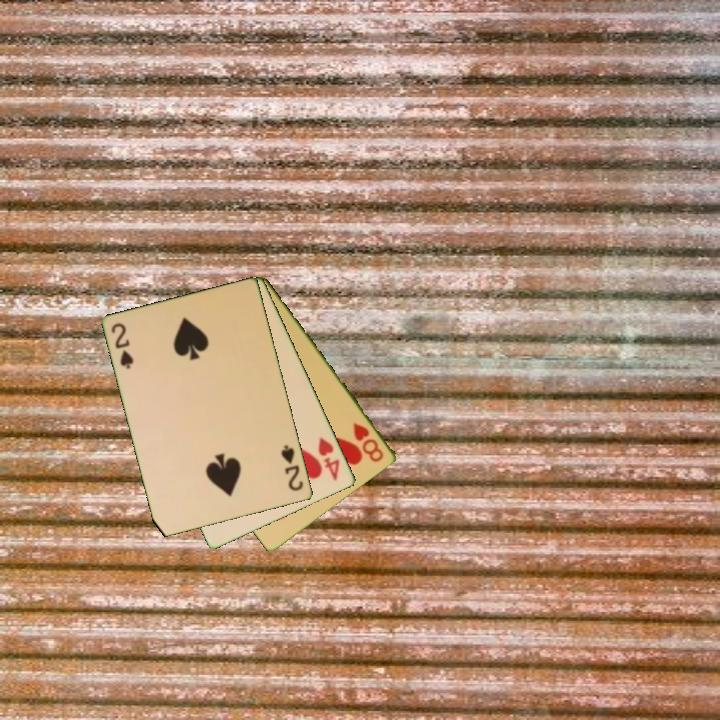2s: (278, 441, 307, 494), (108, 319, 137, 372)
4h: (315, 434, 343, 484)
8h: (350, 419, 387, 465)
